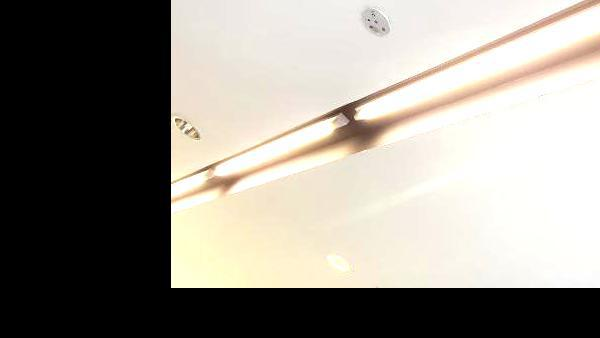light_on: (345, 0, 600, 129), (210, 83, 343, 187), (171, 165, 216, 202)
